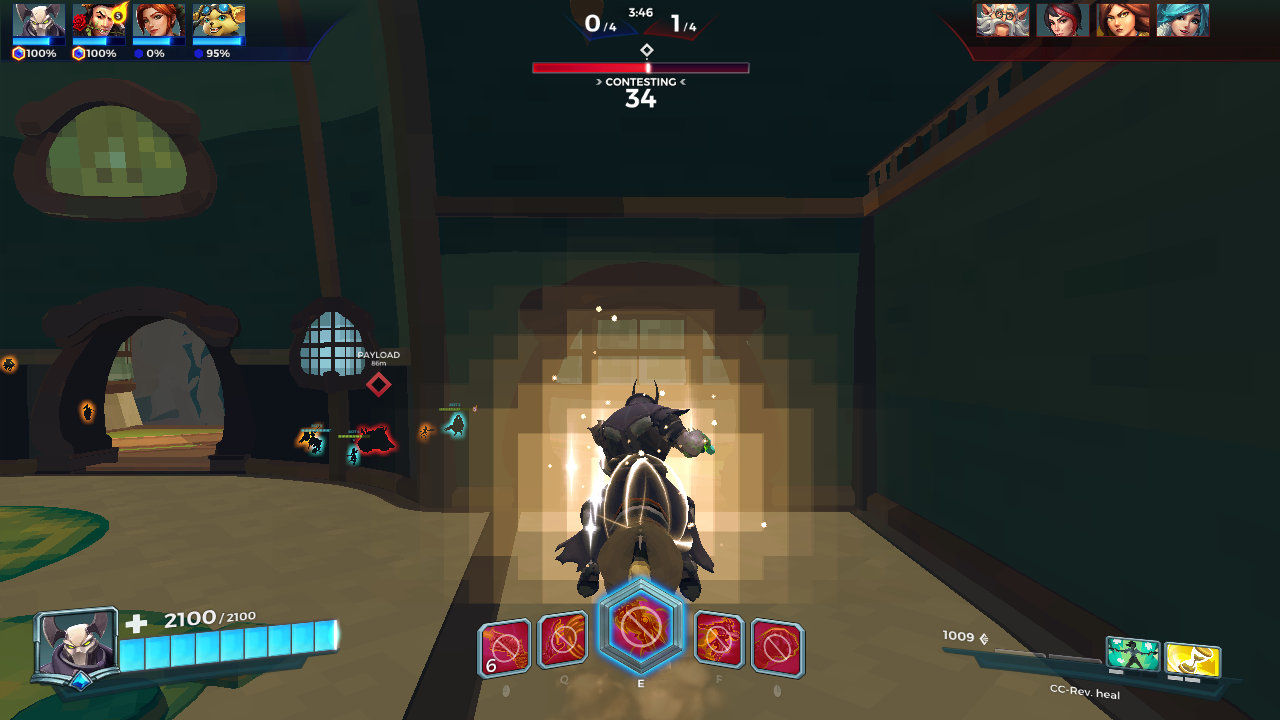model: (293, 424, 319, 445), (416, 418, 433, 447), (81, 401, 97, 427), (1, 352, 14, 373)
